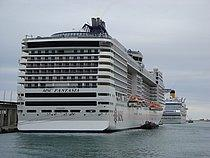Ship: (14, 16, 172, 136)
